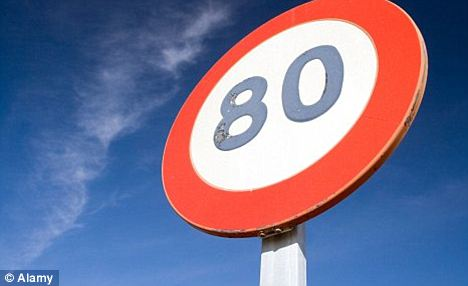Speed_limit_80km: (160, 1, 428, 238)
